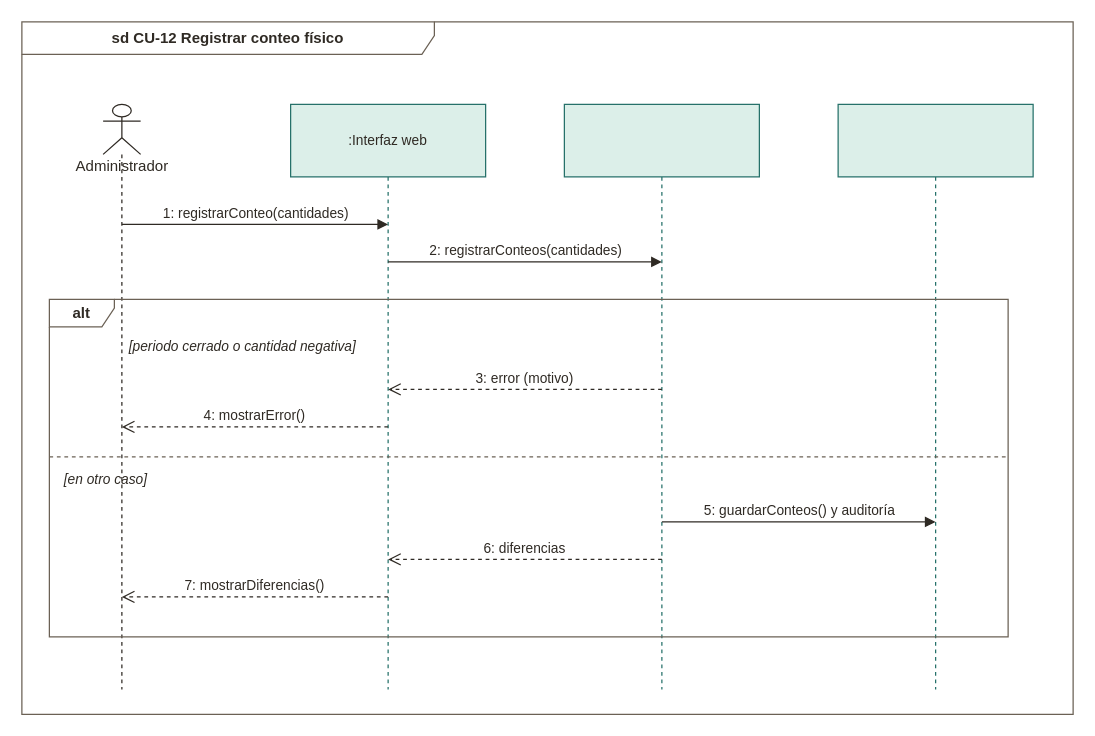
The diagram is 1095 pixels wide and 736 high, and some of its shapes have lost their labels. The box of each missing label's shape, as (x1, y1, x2, y2) in pixels:
:Base de datos: (837, 103, 1033, 689)
:Controlador de inventario: (563, 103, 759, 689)
